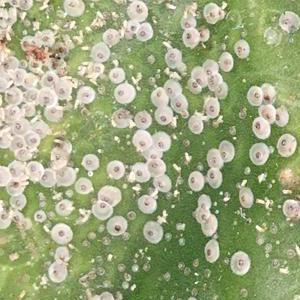Femea: (92, 200, 108, 216), (252, 118, 264, 136), (53, 152, 67, 167), (208, 168, 219, 186), (170, 97, 184, 111), (101, 189, 115, 203), (140, 197, 153, 212), (152, 135, 166, 148), (116, 88, 129, 102), (181, 17, 196, 29), (41, 170, 54, 183), (26, 164, 39, 177), (8, 180, 22, 192), (206, 100, 217, 115), (10, 122, 25, 133), (272, 109, 282, 125), (135, 134, 147, 147), (133, 166, 146, 178), (109, 164, 121, 177), (251, 148, 262, 162), (238, 190, 249, 204), (10, 138, 24, 149), (147, 161, 162, 171), (165, 84, 177, 96), (56, 170, 69, 181), (158, 111, 169, 124), (41, 91, 52, 104), (154, 87, 163, 102), (182, 31, 197, 40), (209, 152, 218, 167), (156, 179, 167, 191), (204, 63, 215, 75), (199, 69, 211, 80), (278, 137, 288, 150), (42, 75, 55, 85), (56, 81, 65, 95), (47, 107, 58, 118), (139, 26, 149, 38), (144, 150, 157, 159), (187, 173, 196, 186), (262, 89, 271, 102), (186, 86, 195, 99), (79, 90, 92, 99), (110, 69, 120, 80), (78, 182, 89, 192), (27, 134, 37, 144), (94, 48, 103, 59), (126, 21, 137, 30), (222, 145, 229, 159), (264, 108, 271, 121), (252, 88, 258, 102), (83, 158, 91, 167)
Macho: (252, 197, 265, 206)
